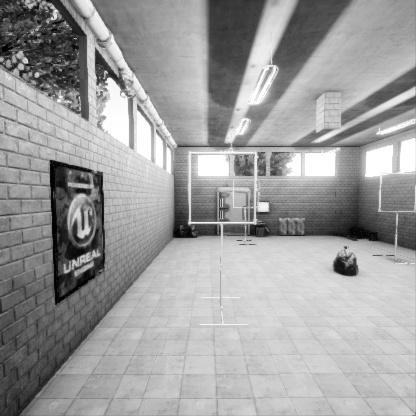gate: (189, 195, 260, 266), (383, 205, 416, 245), (232, 209, 261, 237)
